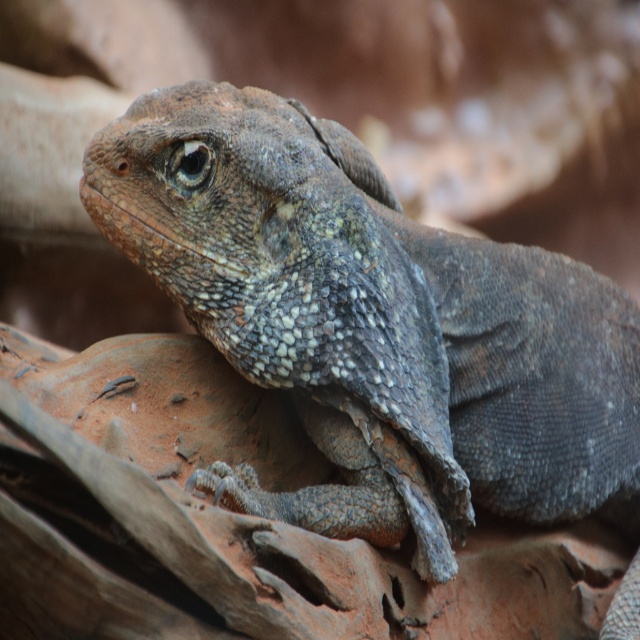Lizard: (87, 82, 614, 636)
